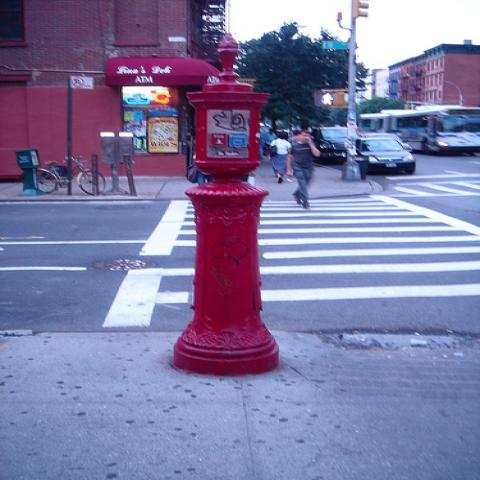bus: (390, 106, 479, 155)
car: (356, 138, 416, 174), (307, 126, 349, 161), (278, 129, 293, 137)
truck: (311, 128, 348, 166)
